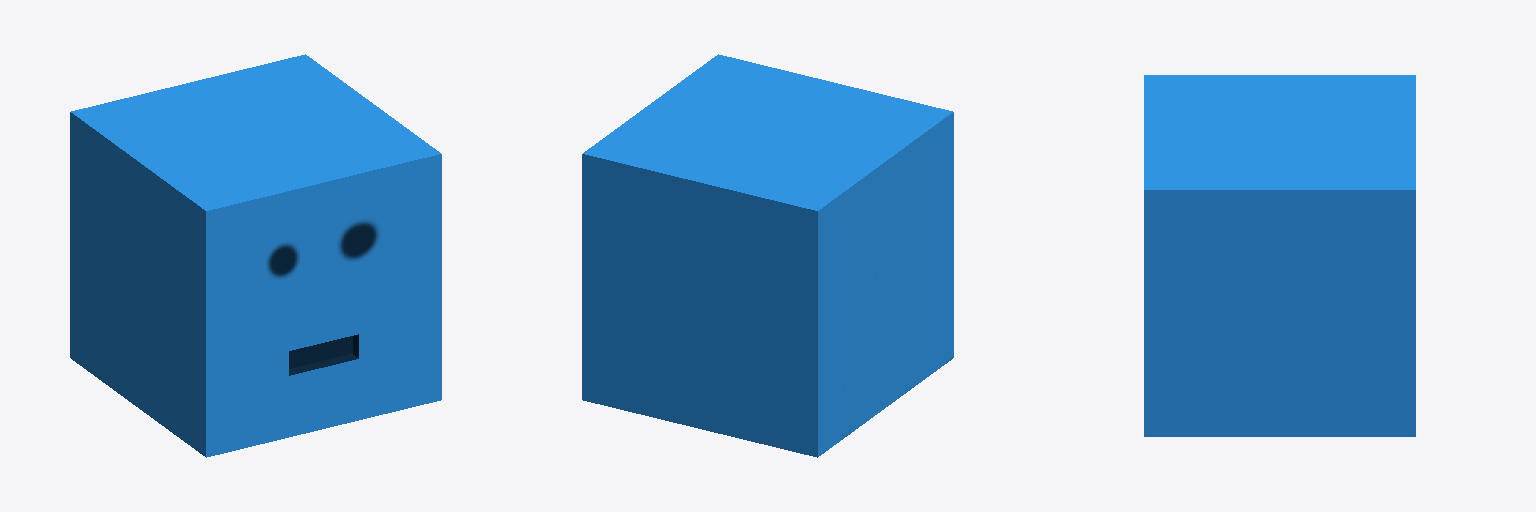
3 renders of one model, left to right at view 1: azimuth 30°, elevation 25°; view 2: azimuth 150°, elevation 25°; view 3: azimuth 270°, elevation 25°, orthographic.
Visible parts, largest first — view 1: Cube; view 2: Cube; view 3: Cube.
Part boxes in pixels (x1,y1,x2,y2): Cube: (70,54,441,457); Cube: (582,54,953,457); Cube: (1144,75,1415,436).
Size of the model in its own units: 1.2 by 1.2 by 1.2.
1 materials, 1 textured.